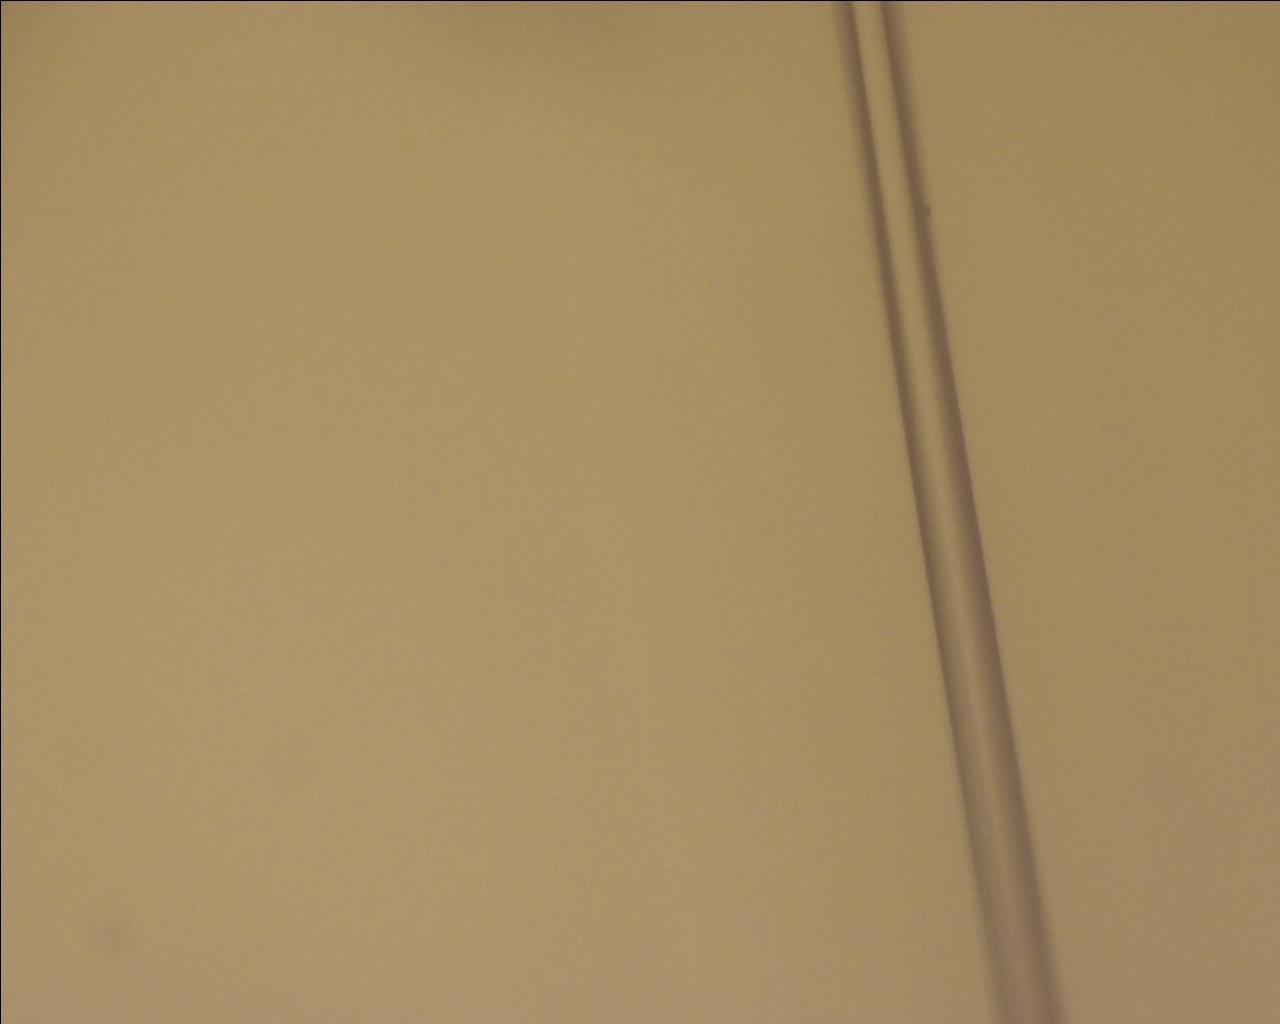fiber: (0, 636, 675, 1024), (691, 675, 1280, 899), (691, 178, 1027, 532)
